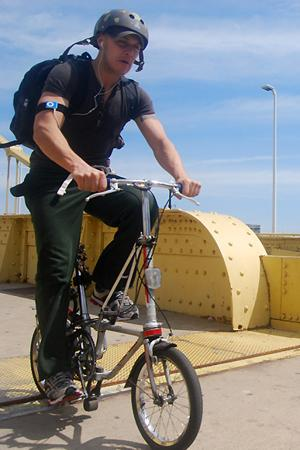person: (10, 12, 202, 409)
